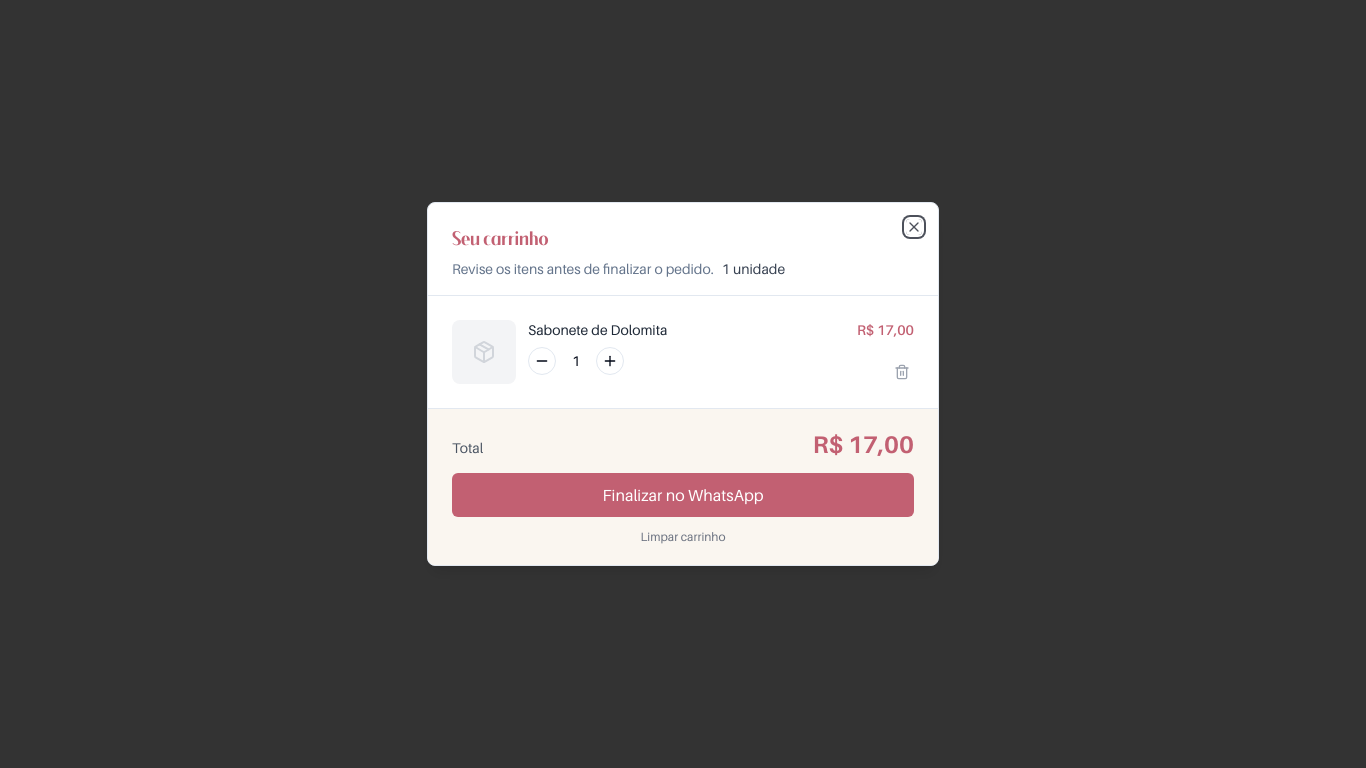
CarrinhoModal — ajustes › + incrementa, − decrementa; lista e total atualizam
Step 1. Click the button named "aumentar" → (610, 361), box left=596, top=347, right=624, bottom=375
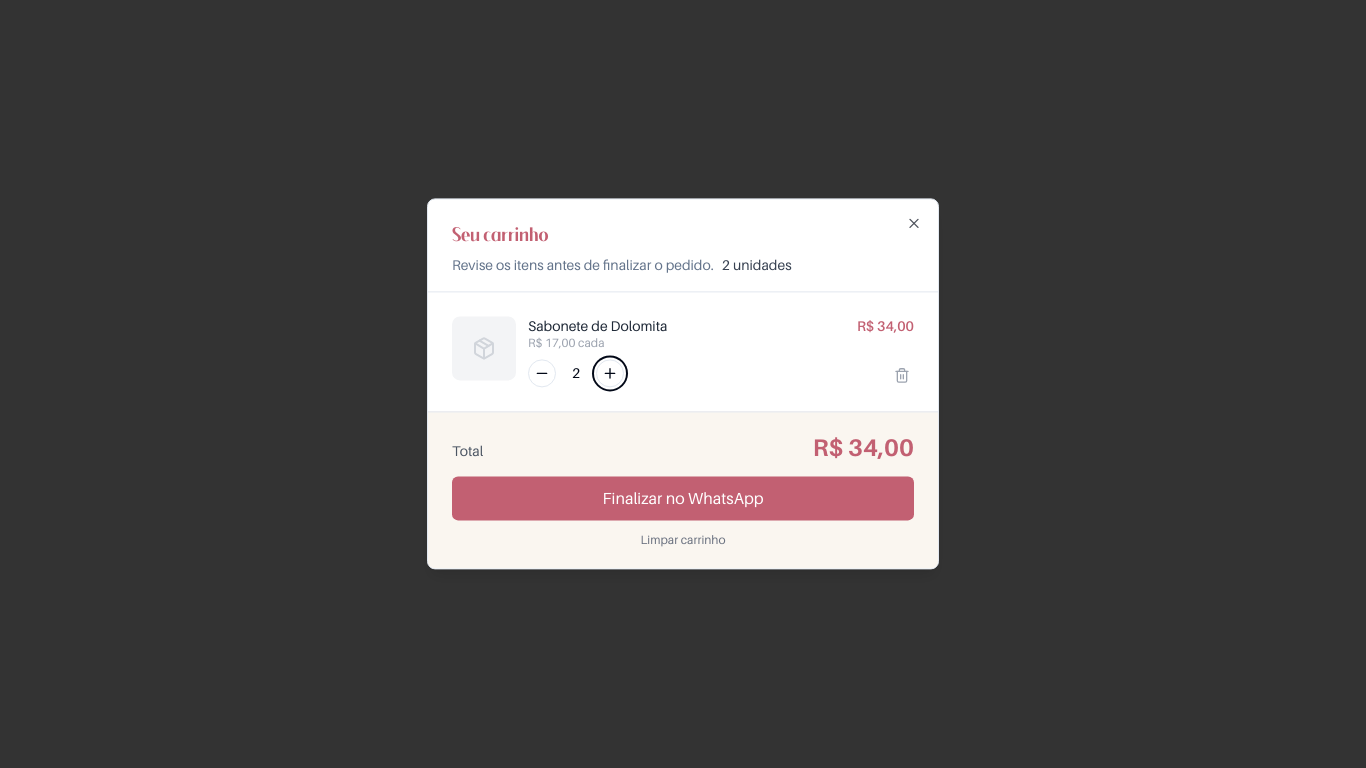
Check: the text with test id "qtd" reads "2", box left=572, top=365, right=580, bottom=382
Check: the text with test id "total" reads "R$ 34,00", box left=813, top=434, right=914, bottom=463
Step 2. Click the button named "diminuir" → (542, 374), box left=528, top=360, right=556, bottom=388
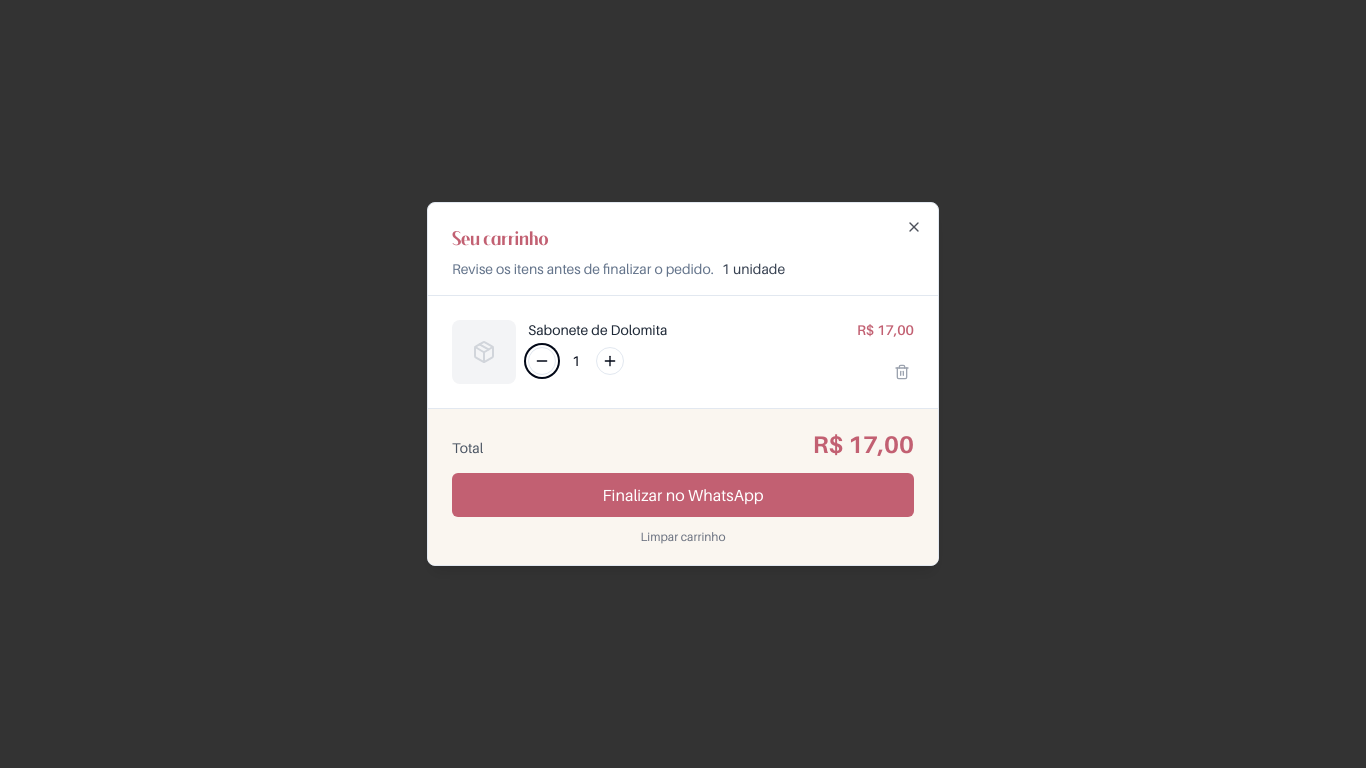
Check: the text with test id "qtd" reads "1", box left=572, top=352, right=580, bottom=369
Check: the text with test id "total" reads "R$ 17,00", box left=813, top=430, right=914, bottom=459
